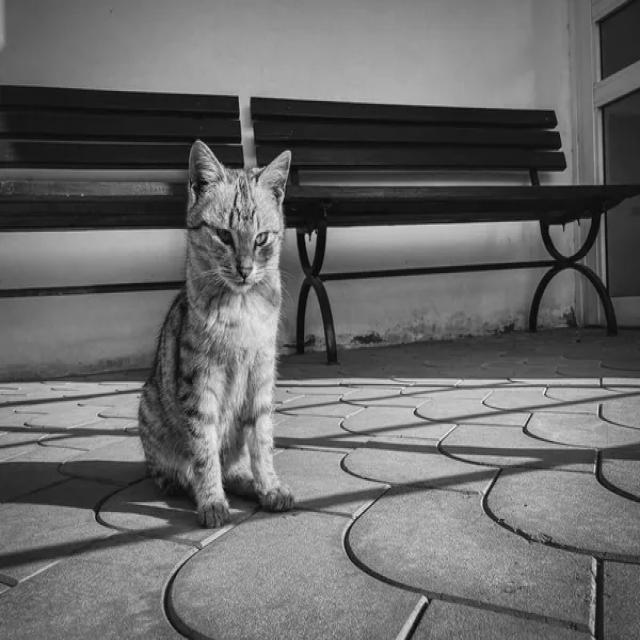Animal: (139, 139, 293, 527)
